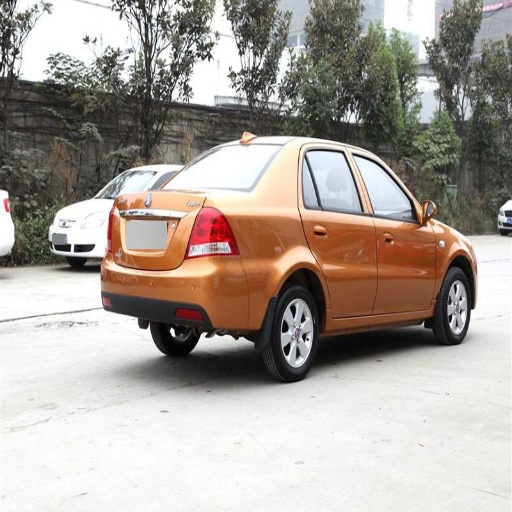back_bumper: (99, 251, 279, 329)
back_right_door: (299, 144, 377, 316)
